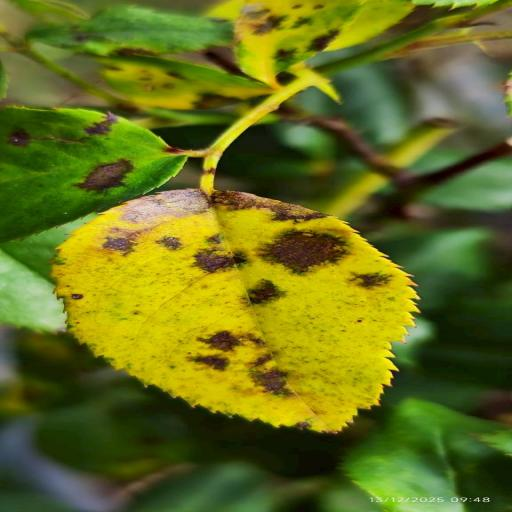black_spot: (53, 189, 417, 432)
